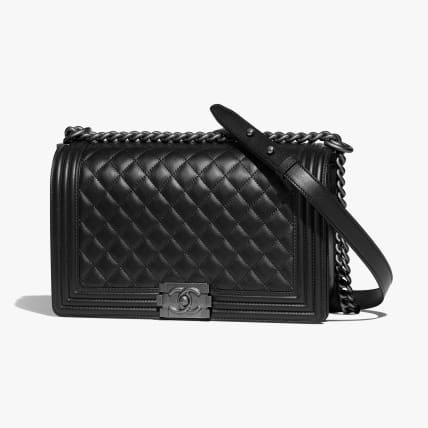channel: (40, 113, 364, 324), (106, 162, 274, 259), (55, 108, 340, 150), (156, 278, 226, 316)
